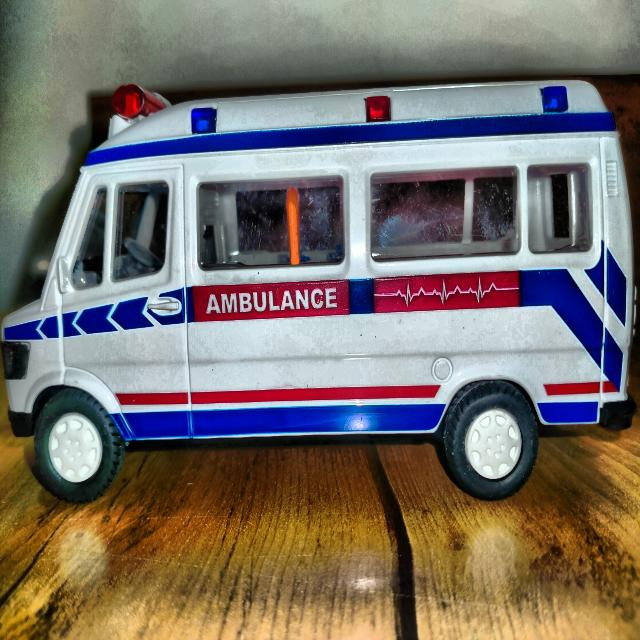Ambulance: (0, 80, 636, 502)
